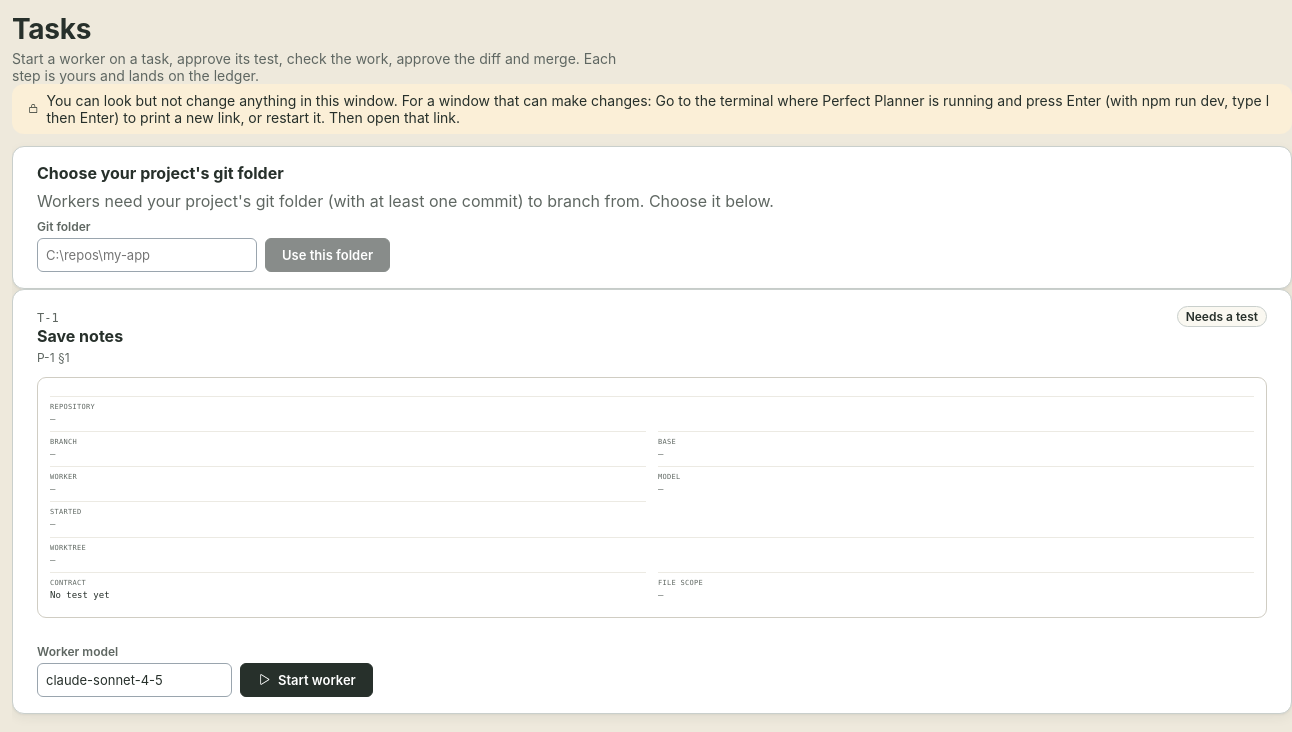
Test case: TasksScreen › asks for the git folder when the project folder is not a repository, and saves it
Expected: the text "need your project's git folder" is shown, top-left (37, 191), bottom-right (774, 211)
Type "/work/notes" into the field labelled "Git folder" at (147, 255), box top-left (37, 238), bottom-right (257, 272)
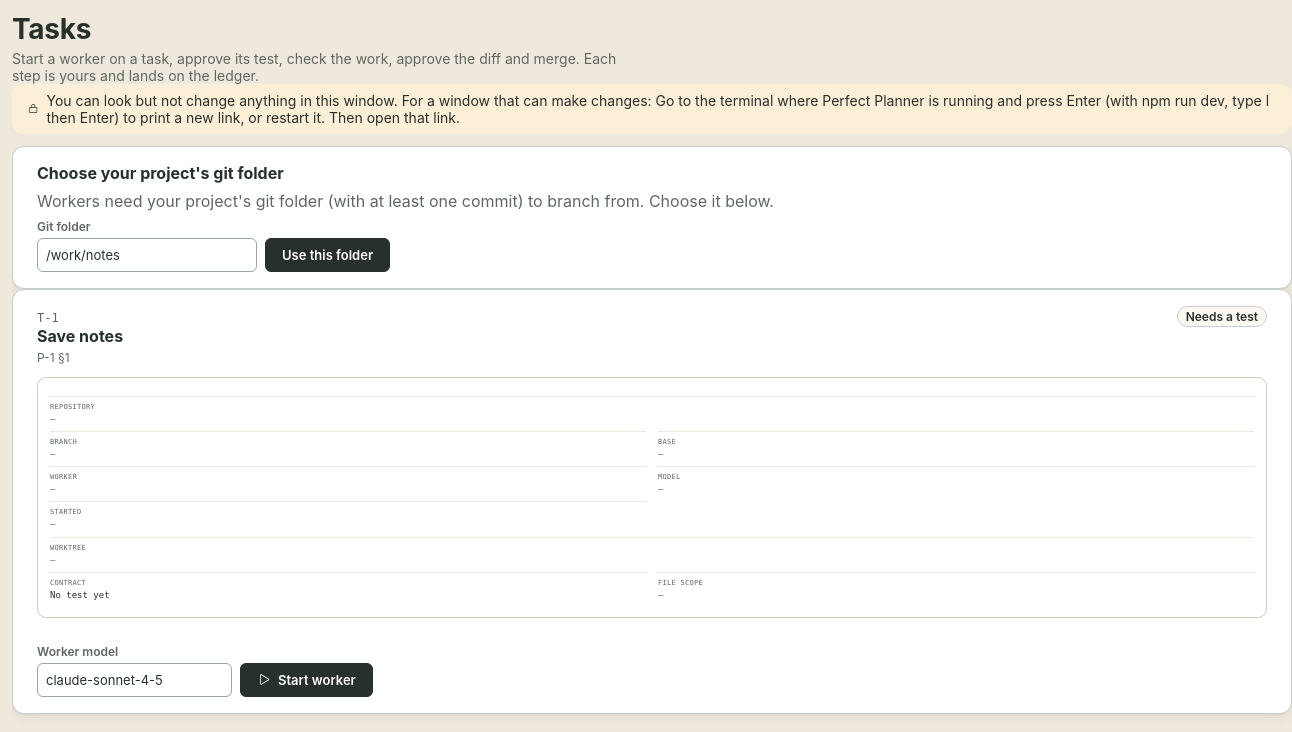
Click the button "Use this folder" at (328, 255), box top-left (265, 238), bottom-right (390, 272)
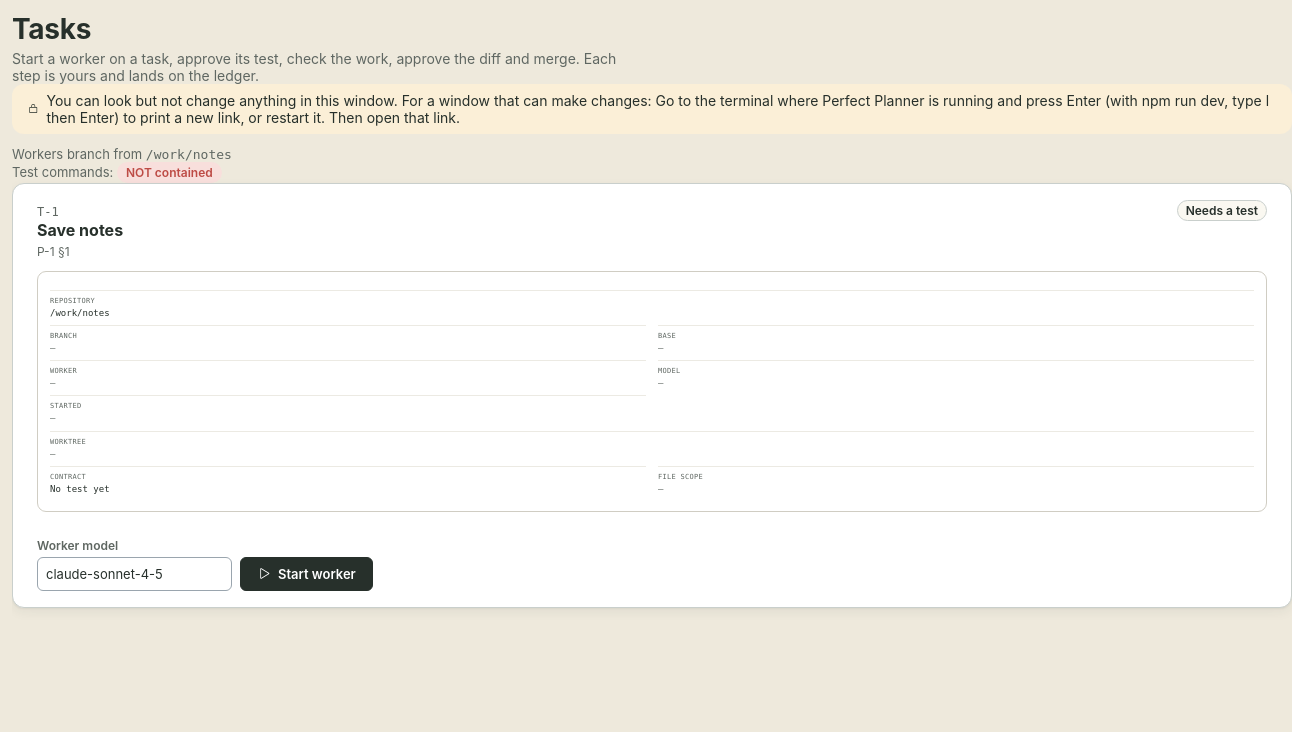
Result: the text "/work/notes" next to "Workers branch from" is shown at top-left (146, 147), bottom-right (232, 162)
